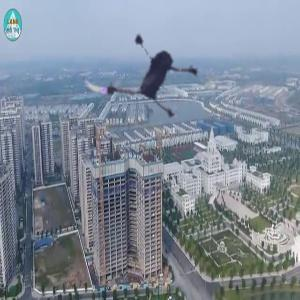drone: (81, 1, 215, 135)
